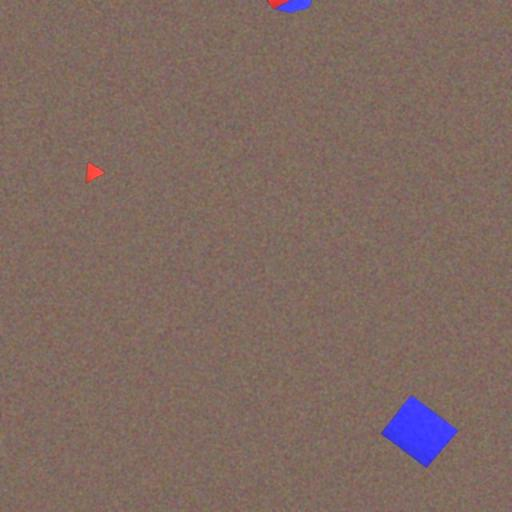BLUE_SQUARE: (380, 394, 459, 469)
RED_SQUARE: (256, 0, 298, 10)
